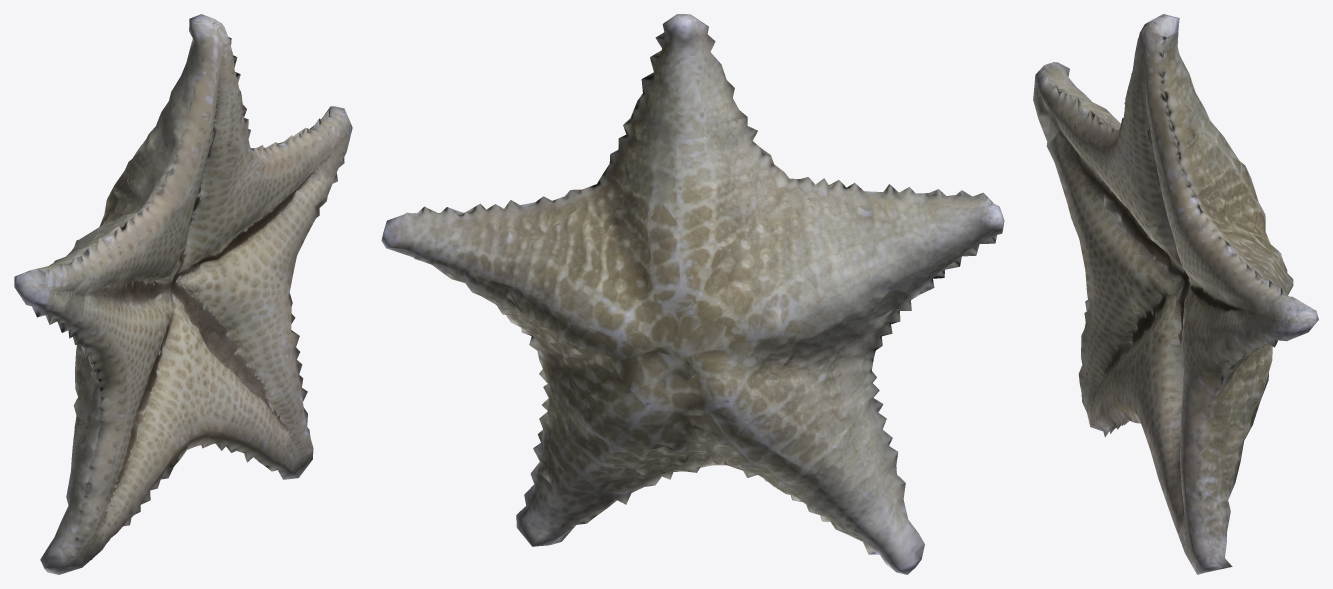
File: Astropecten sp.fbx
The picture shows the model from 3 angles, left to right: view 1: azimuth 30°, elevation 25°; view 2: azimuth 150°, elevation 25°; view 3: azimuth 270°, elevation 25°; orthographic projection. The views are drawn at different scales.
Visible parts, largest first — view 1: PRI_Starfish; view 2: PRI_Starfish; view 3: PRI_Starfish.
Boxes of the visible parts, <box> form: PRI_Starfish: <box>14,14,352,574</box>; PRI_Starfish: <box>381,14,1004,574</box>; PRI_Starfish: <box>1033,14,1318,574</box>.
Bounding box in the file's own units: 2.2 × 2.31 × 1.19.
1 material, 1 textured.
